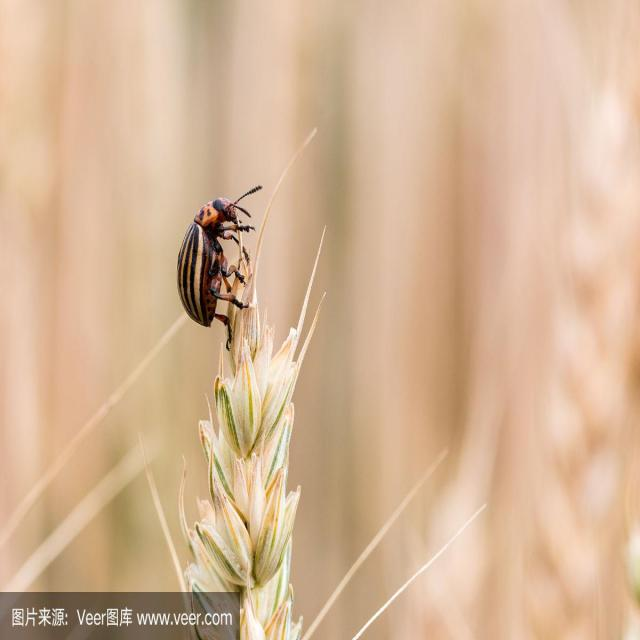ShuCaiHuaBanChong-Grown-: (156, 185, 254, 354)
